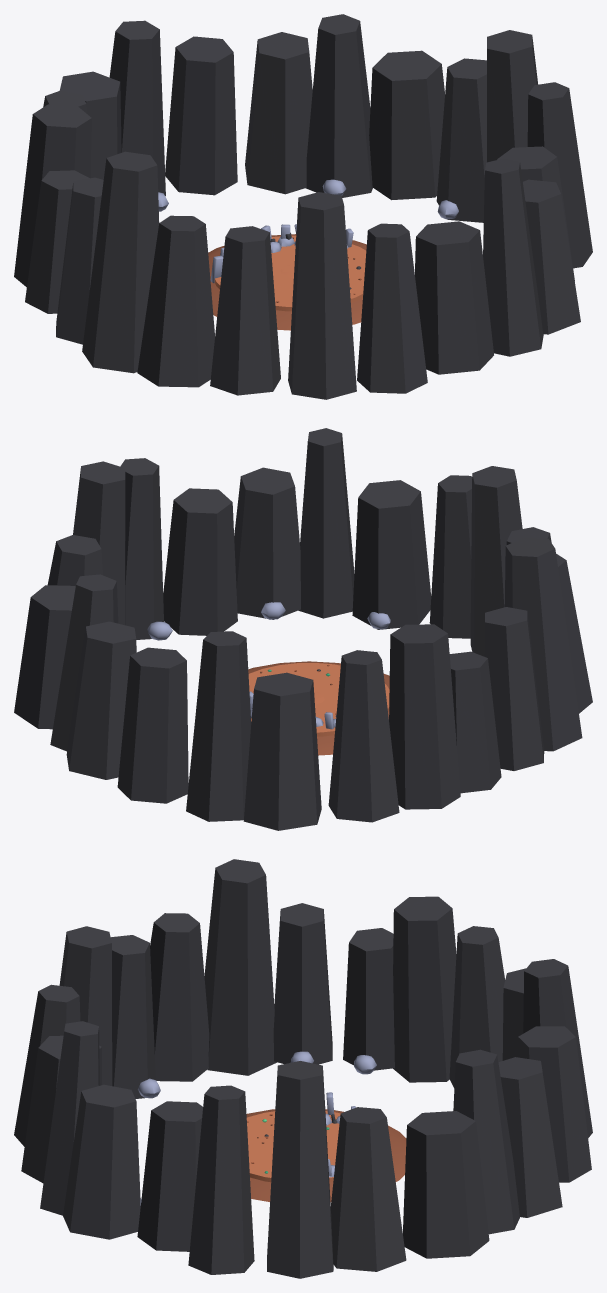
The model's file is crag_pup.glb.
The picture shows the model from 3 angles, top to bottom: view 1: azimuth 30°, elevation 25°; view 2: azimuth 150°, elevation 25°; view 3: azimuth 270°, elevation 25°; orthographic projection. The views are drawn at different scales.
Parts seen in each view (by area): view 1: CragPupGround; view 2: CragPupGround; view 3: CragPupGround.
Part boxes in pixels (left/top/right/bottom): CragPupGround: left=14, top=14, right=592, bottom=399; CragPupGround: left=14, top=428, right=592, bottom=830; CragPupGround: left=14, top=859, right=592, bottom=1278.
Size of the model in its own units: 40.65 by 15.24 by 41.16.
1 material, 1 textured.
